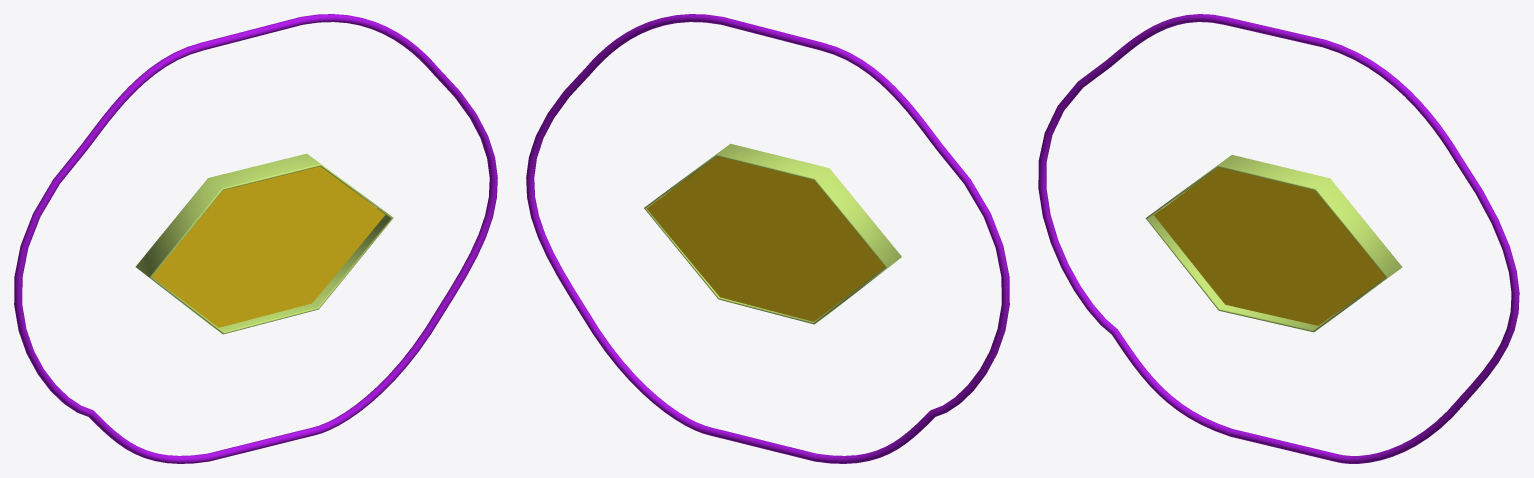
The model's file is leber-lgp-109p.glb.
The picture shows the model from 3 angles, left to right: view 1: azimuth 30°, elevation 25°; view 2: azimuth 150°, elevation 25°; view 3: azimuth 330°, elevation 25°; orthographic projection.
Parts seen in each view (by area): view 1: Line.003, _outline.018, Line.002; view 2: Line.003, _outline.018, Line.002; view 3: Line.003, _outline.018, Line.002.
Boxes of the visible parts, x1,y1,x2,y2 form: Line.003: (152, 166, 385, 327); _outline.018: (14, 14, 497, 463); Line.002: (135, 153, 393, 334); Line.003: (647, 156, 885, 321); _outline.018: (526, 14, 1009, 463); Line.002: (644, 143, 901, 324); Line.003: (1154, 167, 1385, 325); _outline.018: (1038, 14, 1519, 463); Line.002: (1145, 155, 1402, 332).
Size of the model in its own units: 4.09 by 3.41 by 0.2393.
